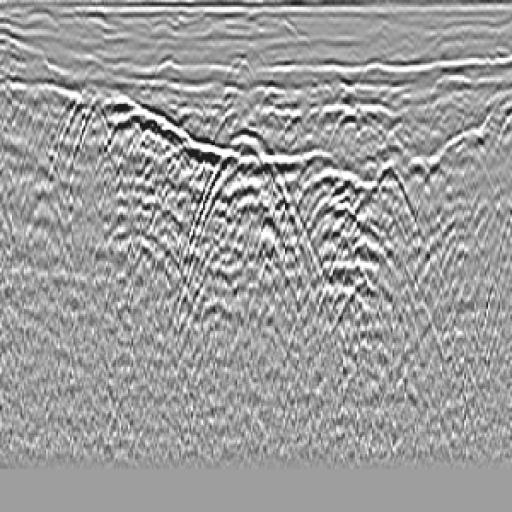metalic: (183, 112, 329, 343)
